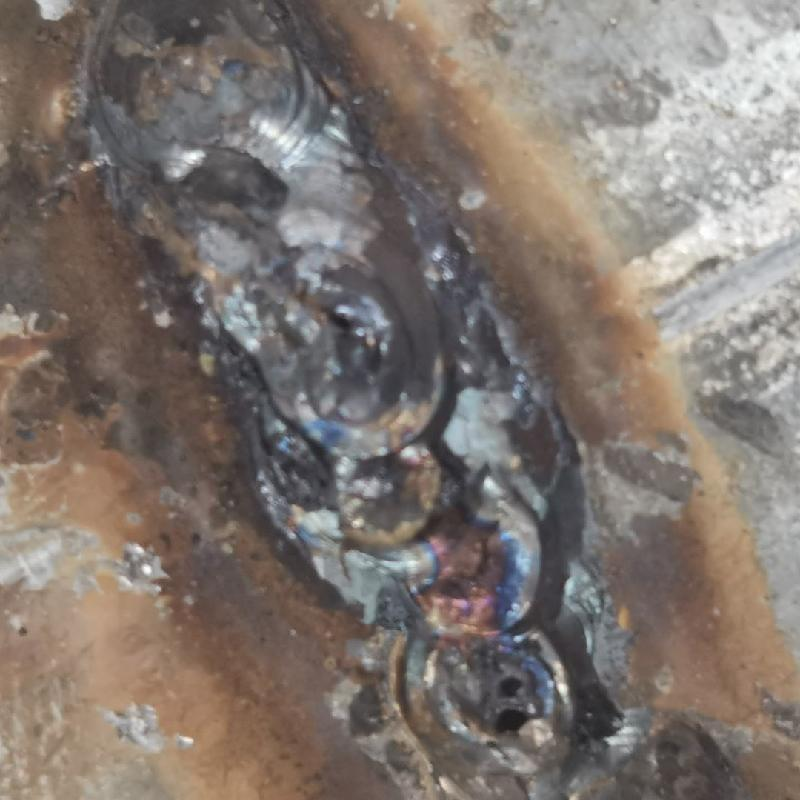Surface_pores: (458, 660, 550, 746)
crater: (198, 265, 568, 758)
wrong_size: (95, 6, 398, 256)
